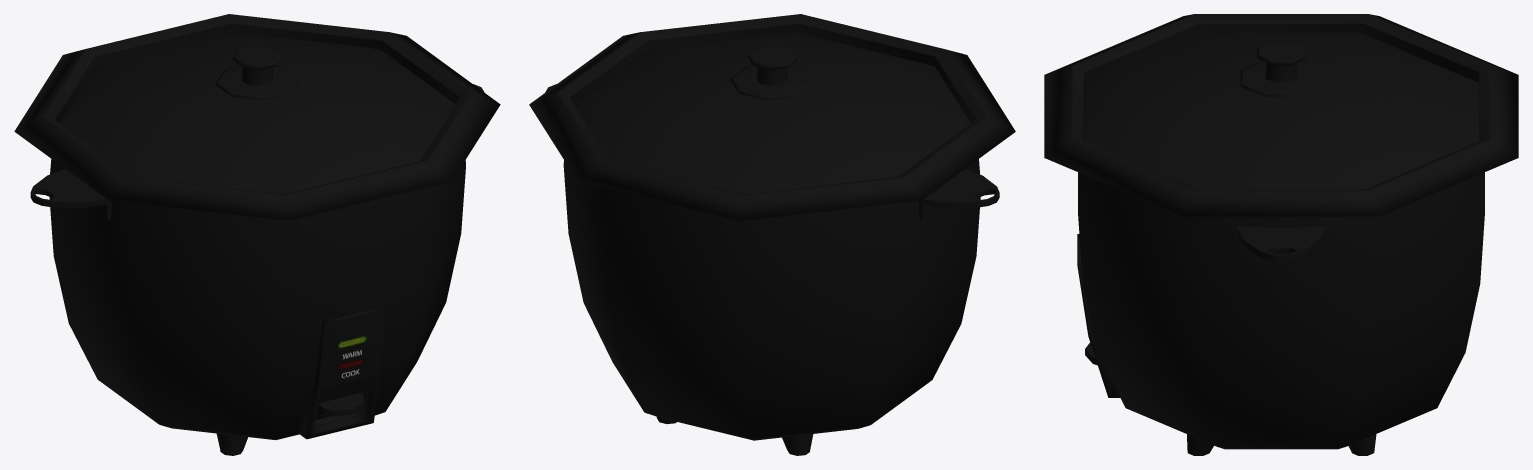
File: RiceCooker.fbx
3 renders of one model, left to right at view 1: azimuth 30°, elevation 25°; view 2: azimuth 150°, elevation 25°; view 3: azimuth 270°, elevation 25°, orthographic. The views are drawn at different scales.
Parts seen in each view (by area): view 1: cooker_body_cooker, cooker_lid_glass_lid, cooker_indicator, cooker_lid_lid_top, cooker_handle_rt_handles, cooker_switch1, cooker_leg_stand_ft_rt_legs; view 2: cooker_body_cooker, cooker_lid_glass_lid, cooker_lid_lid_top, cooker_handle_rt_handles, cooker_legs_leg_stand_bk_rt; view 3: cooker_body_cooker, cooker_lid_glass_lid, cooker_lid_lid_top, cooker_handles_handle_lf, cooker_indicator.
Boxes of the visible parts, x1,y1,x2,y2 form: cooker_body_cooker: (14,14,500,440); cooker_lid_glass_lid: (59,32,455,194); cooker_indicator: (298,307,384,439); cooker_lid_lid_top: (215,45,299,100); cooker_handle_rt_handles: (30,169,111,220); cooker_switch1: (317,392,364,416); cooker_leg_stand_ft_rt_legs: (216,433,247,455); cooker_body_cooker: (529,14,1015,440); cooker_lid_glass_lid: (574,32,970,194); cooker_lid_lid_top: (730,45,814,100); cooker_handle_rt_handles: (918,169,999,220); cooker_legs_leg_stand_bk_rt: (782,434,813,455); cooker_body_cooker: (1044,14,1518,449); cooker_lid_glass_lid: (1083,32,1479,189); cooker_lid_lid_top: (1240,41,1322,96); cooker_handles_handle_lf: (1238,226,1324,261); cooker_indicator: (1077,234,1120,397).
Bounding box in the file's own units: 3639 × 2722 × 3188.
1 material, 1 textured.
